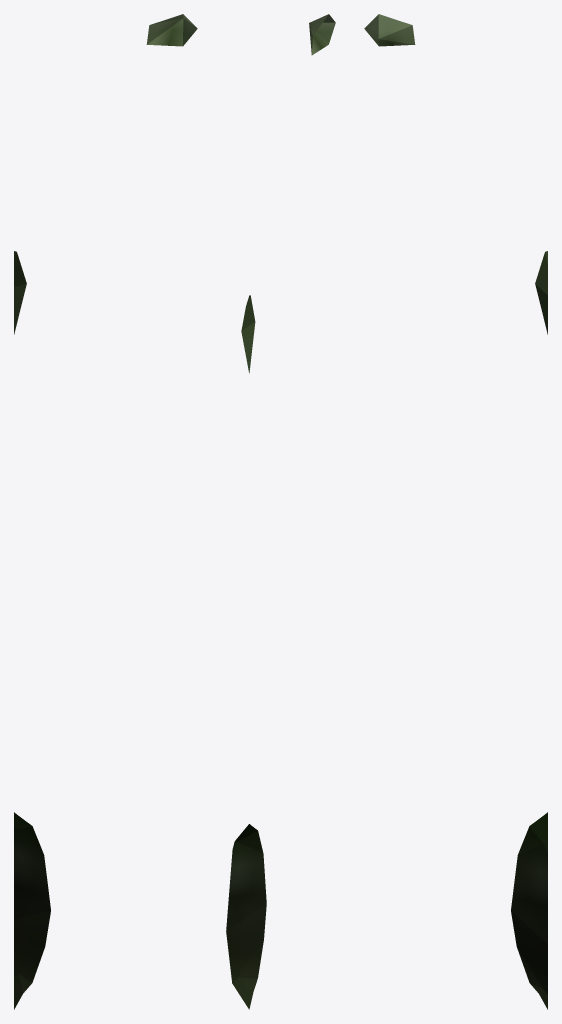
3 views of the same model, side by side, from view 1: azimuth 90°, elevation 25°; view 2: azimuth 150°, elevation 25°; view 3: azimuth 270°, elevation 25° (orthographic). The views are drawn at different scales.
Size of the model in its own units: 0.0052 by 0.2005 by 0.0335.
1 material, 1 textured.
